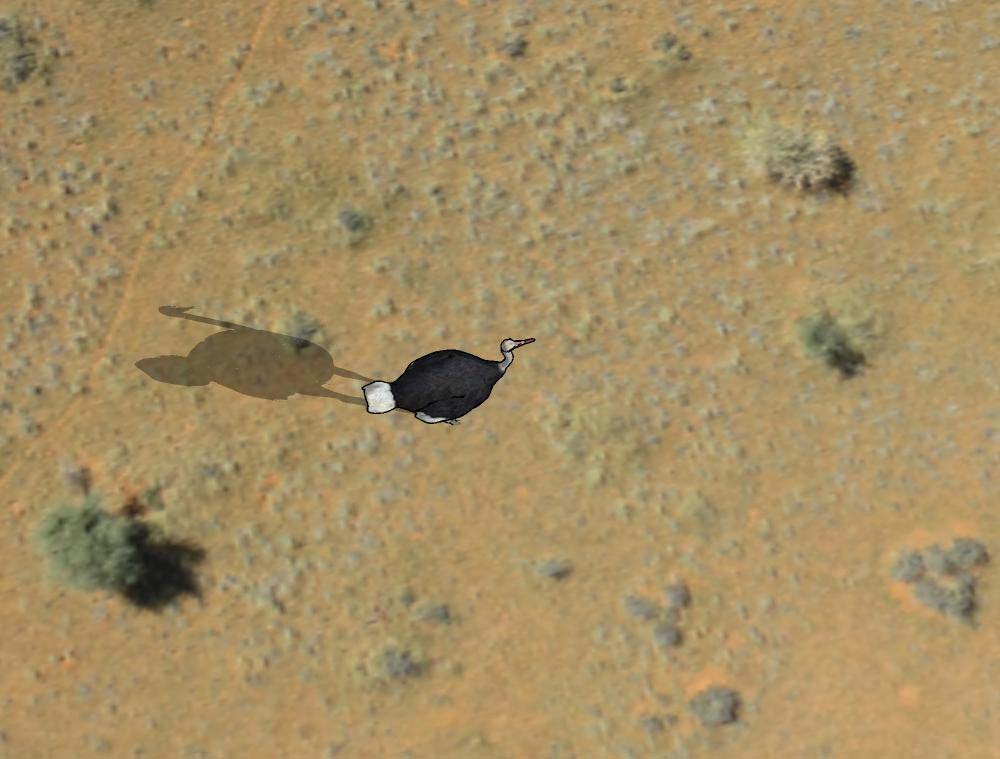ostrich: (361, 325, 538, 443)
